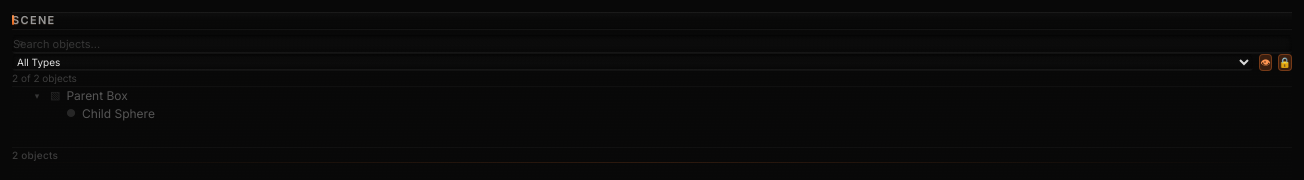
Scenario: ObjectList › hierarchy display › clicking expand button shows children again
This screenshot has width=1304, height=180.
Collapse first
Click the button named "Collapse Parent Box". click: (37, 96)
box: [30, 89, 44, 102]
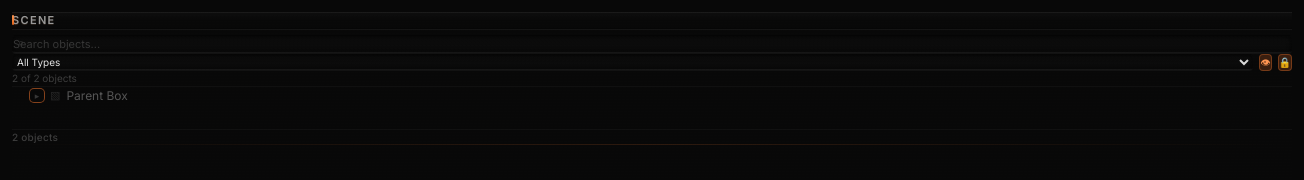
Expected: the option "Child Sphere" is gone
Expand again
Click the button named "Expand Parent Box". click: (37, 96)
box: [30, 89, 44, 102]
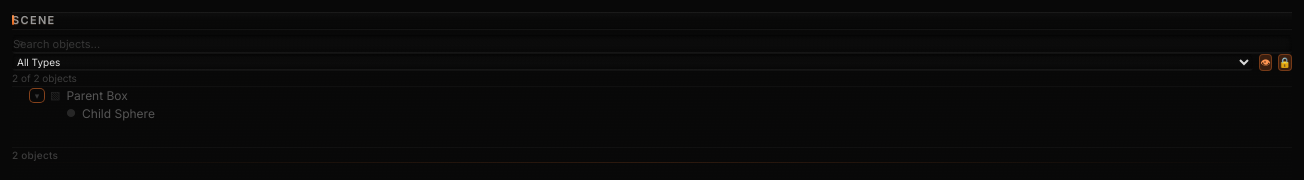
Expected: the text "Child Sphere" is shown, [82, 106, 155, 120]
